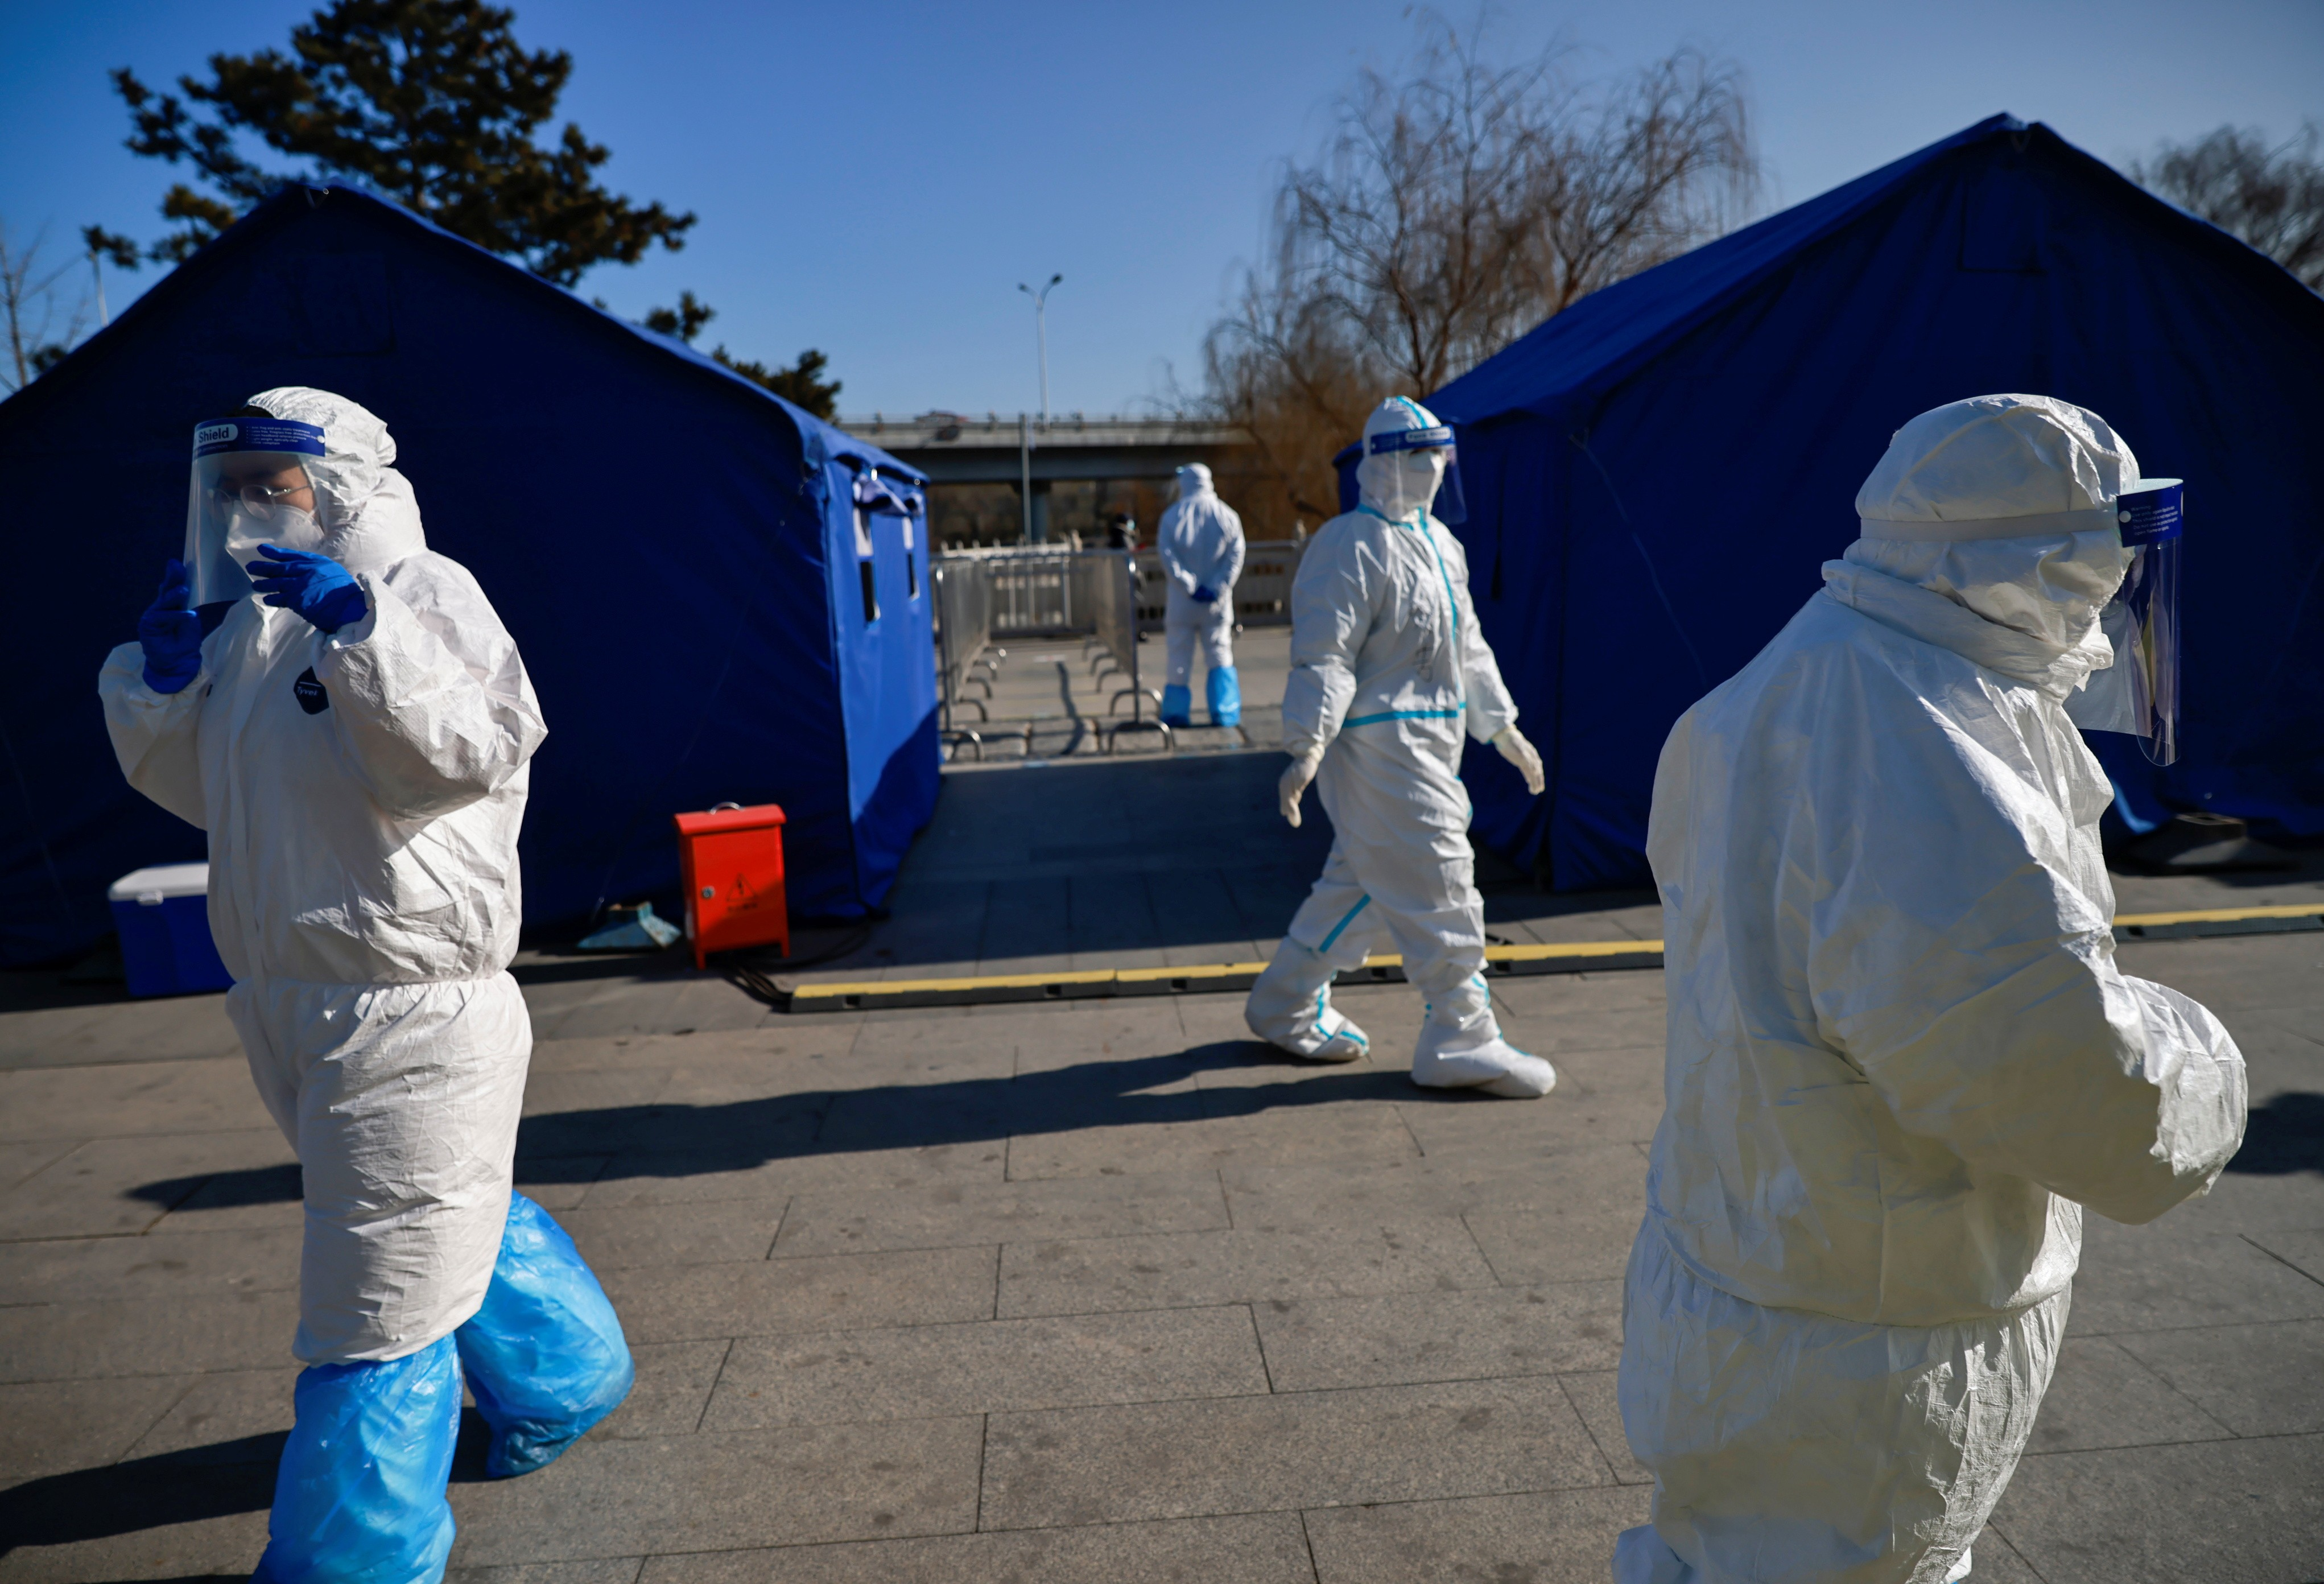Coverall: (1627, 397, 2251, 1584), (96, 386, 521, 1346), (1281, 394, 1518, 1043), (1159, 457, 1248, 685), (1157, 464, 1247, 686)
Face_Shield: (1995, 479, 2199, 776), (176, 414, 339, 621), (1374, 419, 1477, 526)
Gloves: (246, 541, 370, 637), (138, 570, 205, 696), (1268, 740, 1322, 826), (1496, 727, 1555, 805)
with_mask: (210, 474, 321, 601), (1369, 448, 1444, 521)
